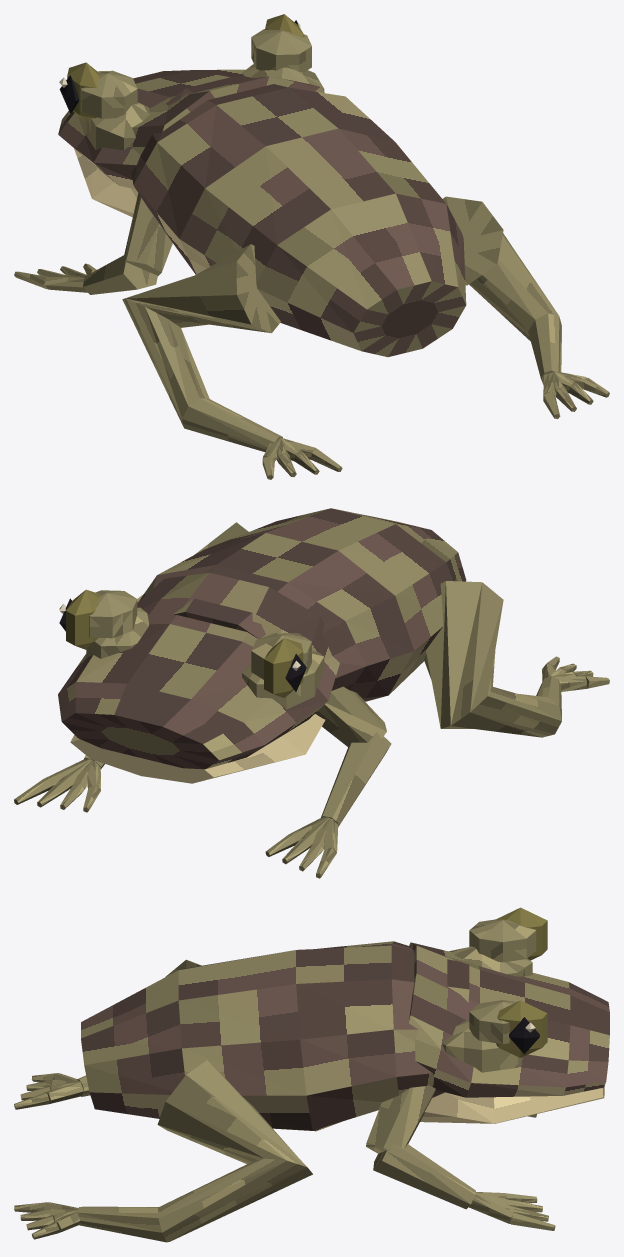
The model's file is mon_leo_frog.glb.
3 views of the same model, one above another, from view 1: azimuth 30°, elevation 25°; view 2: azimuth 150°, elevation 25°; view 3: azimuth 270°, elevation 25° (orthographic). The views are drawn at different scales.
Parts seen in each view (by area): view 1: closed_body; view 2: closed_body; view 3: closed_body.
Boxes of the visible parts, x1,y1,x2,y2 form: closed_body: (14, 14, 609, 479); closed_body: (14, 508, 609, 878); closed_body: (14, 907, 609, 1242).
Size of the model in its own units: 0.1561 by 0.0846 by 0.2208.
1 material, 1 textured.
